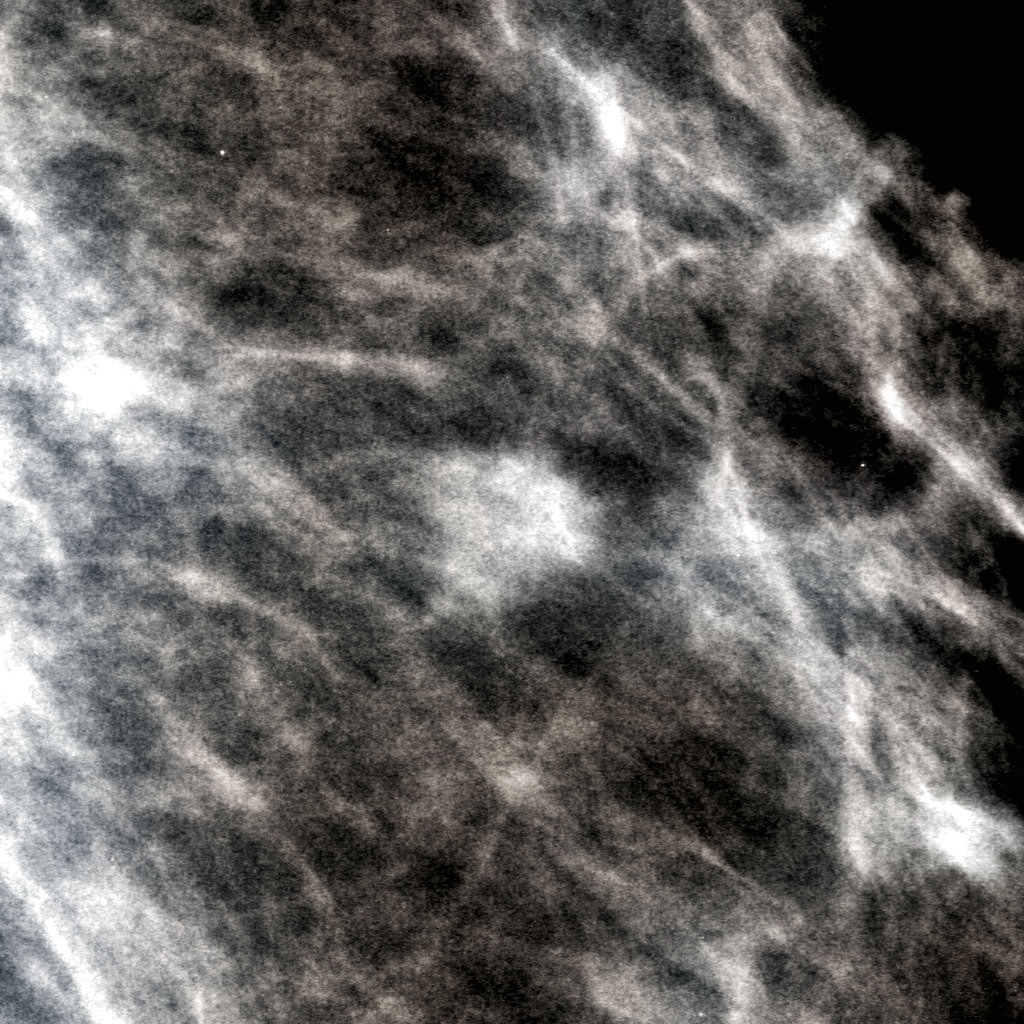tumor: (410, 431, 614, 593)
